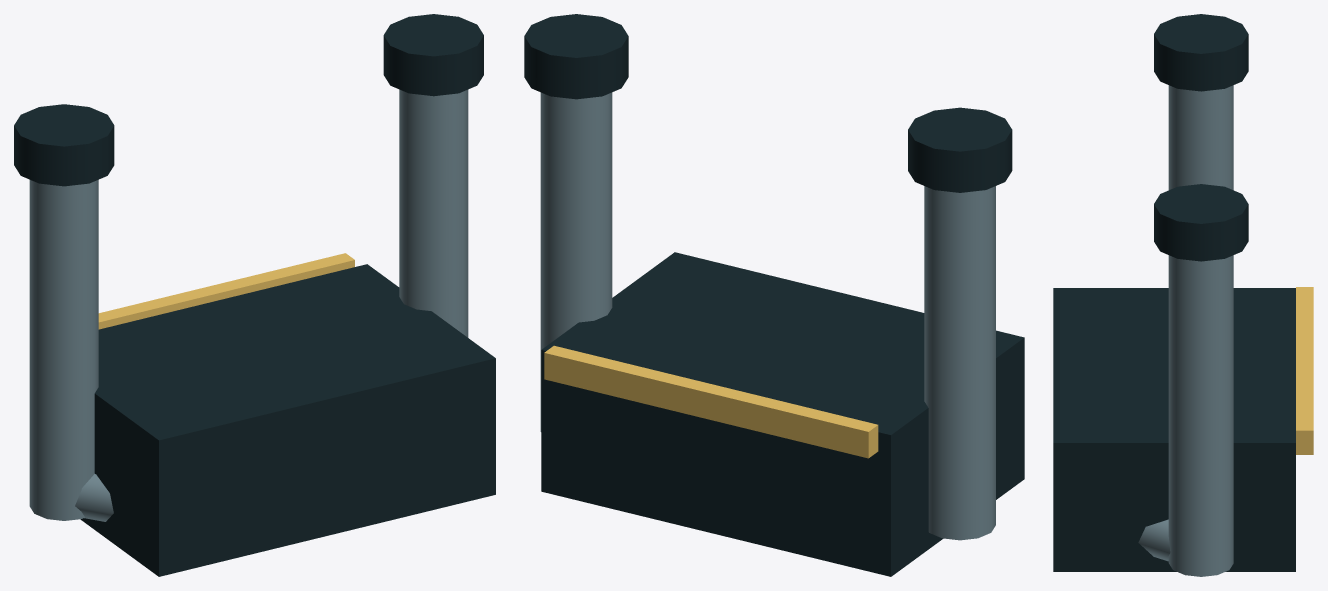
Rendered from upgrade-truck_engine.glb.
3 renders of one model, left to right at view 1: azimuth 30°, elevation 25°; view 2: azimuth 150°, elevation 25°; view 3: azimuth 270°, elevation 25°, orthographic. The views are drawn at different scales.
Parts seen in each view (by area): view 1: upgrade-truck_engine; view 2: upgrade-truck_engine; view 3: upgrade-truck_engine.
Part boxes in pixels (x1,y1,x2,y2): upgrade-truck_engine: (14, 14, 495, 576); upgrade-truck_engine: (524, 14, 1024, 576); upgrade-truck_engine: (1053, 14, 1313, 576).
Bounding box in the file's own units: 1.68 × 1.4 × 0.88.
